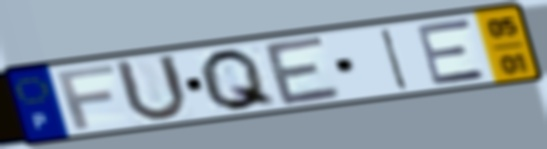E: (259, 33, 346, 109), (413, 16, 491, 88)
F: (53, 63, 118, 132)
I: (378, 25, 412, 93)
Q: (196, 46, 281, 113)
U: (110, 52, 191, 125)
